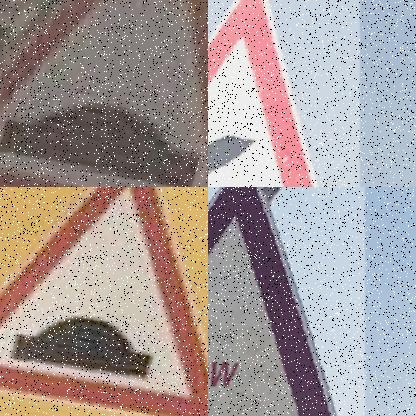Right bend: (208, 0, 320, 187)
Slow: (208, 187, 339, 416)
Speed Breaker Ahead: (0, 187, 208, 416), (0, 0, 208, 187)
